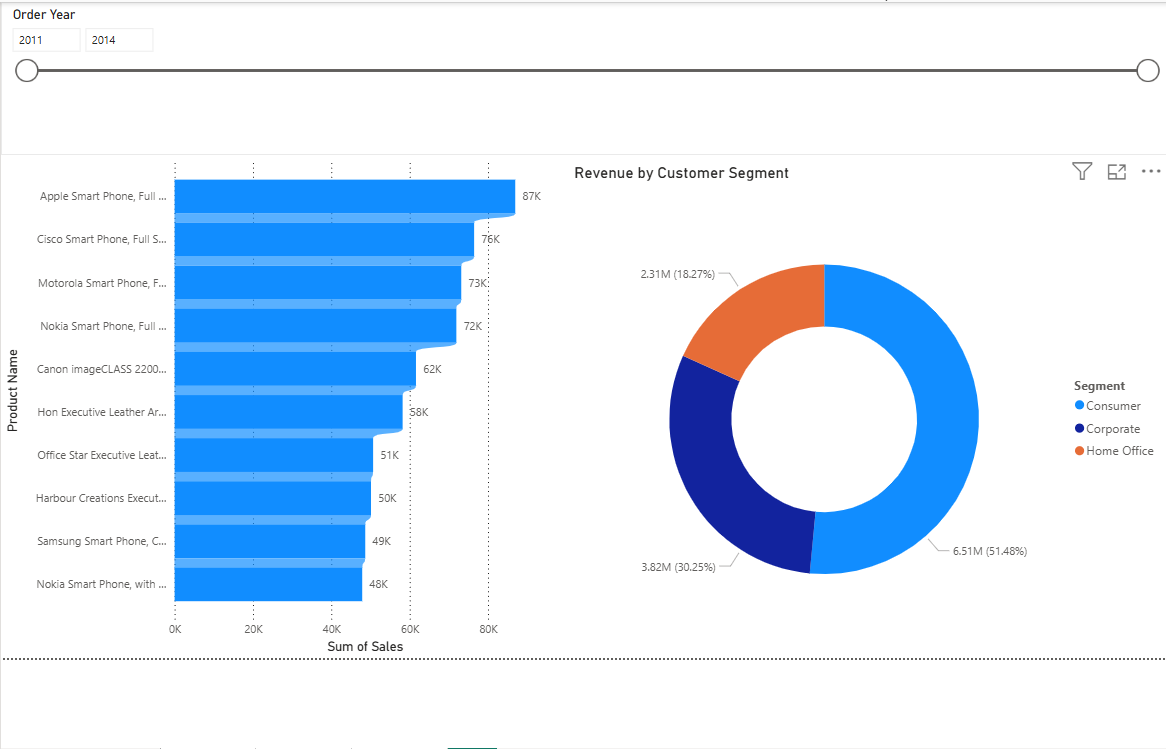

Layout of this report page (visuals, bound fields, positions):
{"tool":"powerbi","page":{"name":"Page 3","canvas":[1280,720],"ordinal":2},"visuals":[{"type":"barChart","title":"Top 10  Products by Revenue","fields":{"Category":["Superstore_analysis.Product Name"],"Y":["Sum(Superstore_analysis.Sales)"]},"box":[0,144.1,624.4,576.3],"z":0},{"type":"donutChart","title":"Revenue by Customer Segment","fields":{"Y":["Sum(Superstore_analysis.Sales)"],"Category":["Superstore_analysis.Segment"]},"box":[624.4,177,655.9,543.4],"z":1000},{"type":"slicer","fields":{"Values":["Superstore_analysis.Order Year"]},"box":[0,0,1280.3,167.4],"z":2000}]}

Visuals, with their boxes on the page's 1280x720 design canvas (x1, y1, x2, y2). These are canvas units, not pixel positions in the 1166x749 screenshot, which may show the page scaled, cropped or inside an application window:
"Top 10  Products by Revenue" barChart: (0,144,624,720)
"Revenue by Customer Segment" donutChart: (624,177,1280,720)
slicer - Superstore_analysis.Order Year: (0,0,1280,167)
